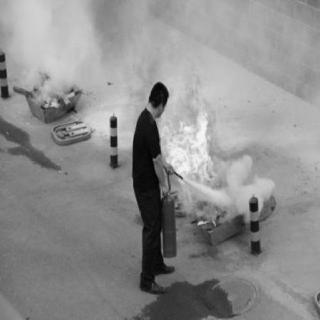Smoke: (8, 5, 101, 97), (225, 156, 269, 218)
